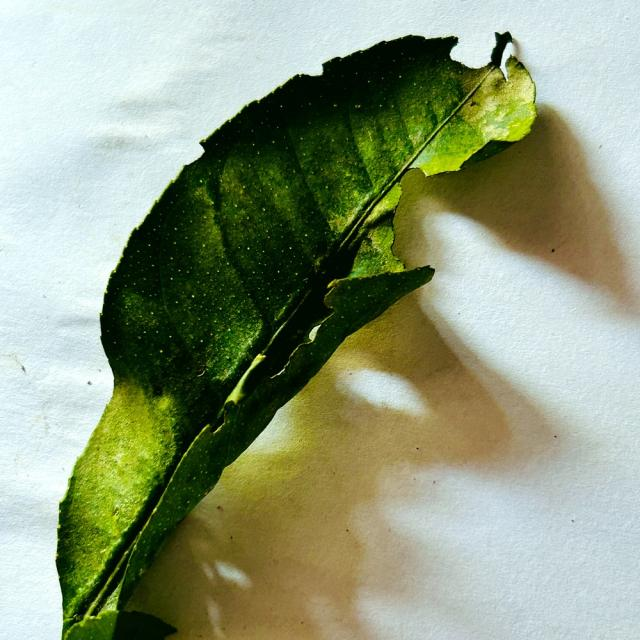Deficiency Leaf: (392, 163, 481, 269), (420, 22, 506, 75), (486, 32, 512, 78), (493, 31, 512, 67), (482, 17, 493, 63), (459, 63, 465, 70), (451, 58, 458, 63)
Lemon: (57, 33, 535, 639)
